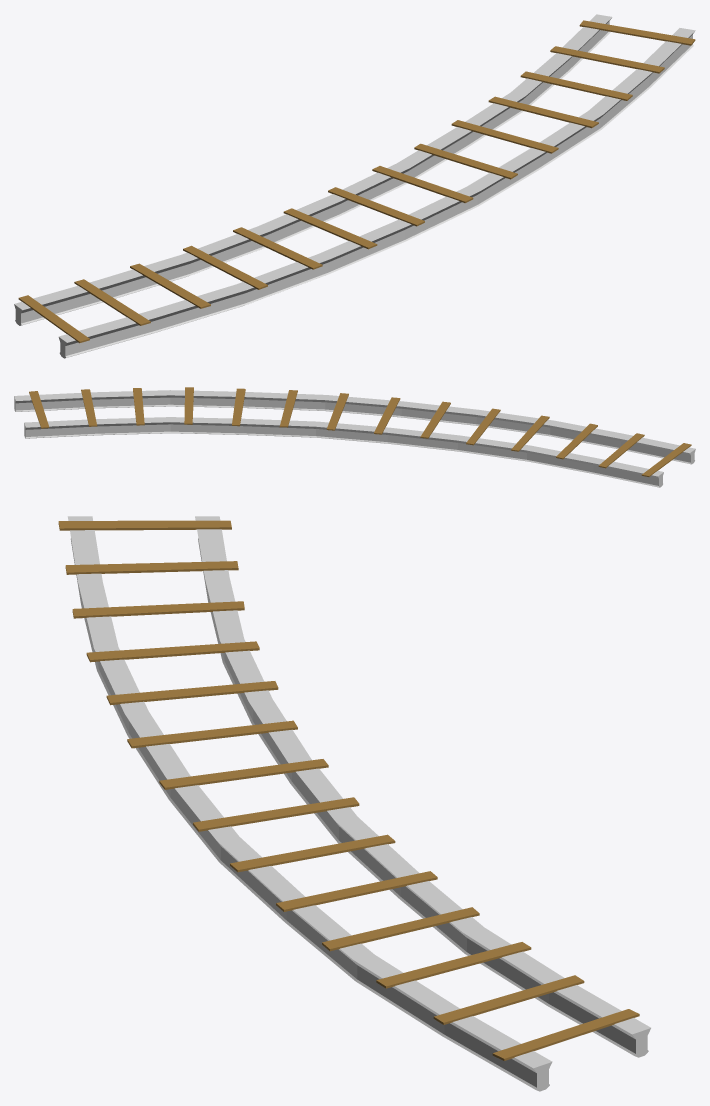
The model's file is 30dgTurn.fbx.
3 renders of one model, top to bottom at view 1: azimuth 30°, elevation 25°; view 2: azimuth 150°, elevation 25°; view 3: azimuth 270°, elevation 25°, orthographic. The views are drawn at different scales.
Visible parts, largest first — view 1: Top, Bot; view 2: Top, Bot; view 3: Top, Bot.
Part boxes in pixels (x1,y1,x2,y2): Top: [14, 14, 695, 358]; Bot: [18, 20, 695, 343]; Top: [14, 390, 695, 487]; Bot: [29, 387, 691, 476]; Top: [67, 516, 650, 1091]; Bot: [58, 520, 639, 1060].
Size of the model in its own units: 2526 by 58.2 by 1147.
